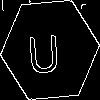U: (25, 25, 62, 75)
